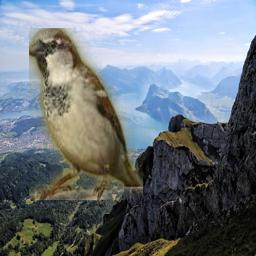Sparrow: (29, 28, 143, 200)
